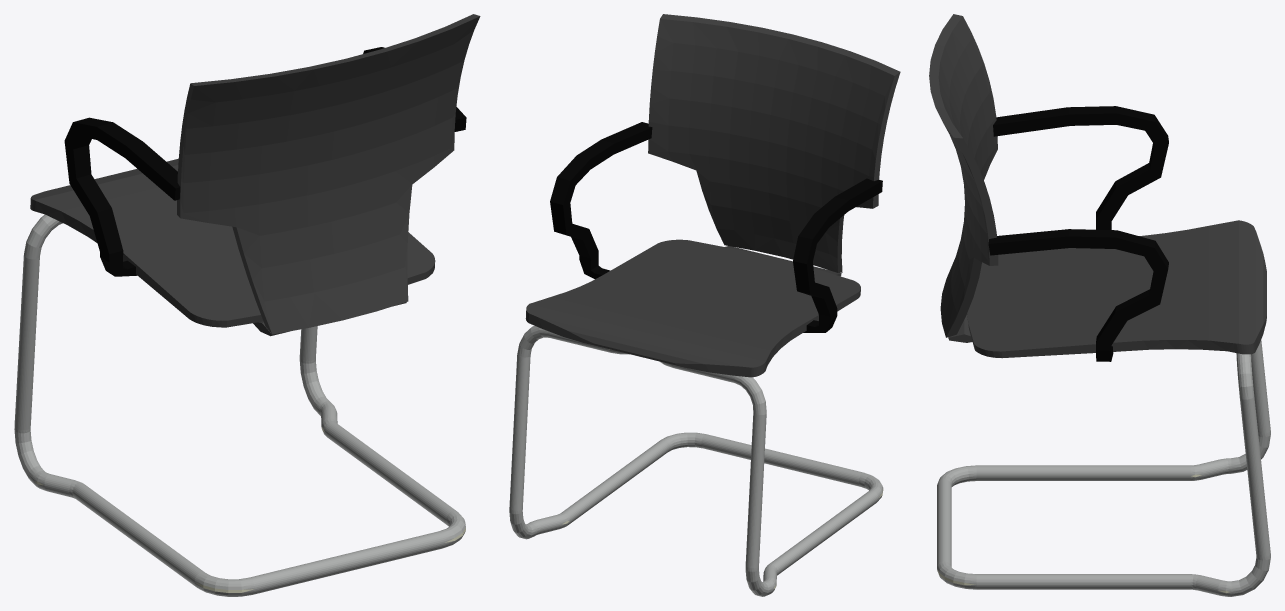
The picture shows the model from 3 angles, left to right: view 1: azimuth 30°, elevation 25°; view 2: azimuth 150°, elevation 25°; view 3: azimuth 270°, elevation 25°; orthographic projection. The views are drawn at different scales.
Parts seen in each view (by area): view 1: mesh3_mesh3-geometry, mesh1_mesh1-geometry, mesh2_mesh2-geometry, mesh6_mesh6-geometry; view 2: mesh3_mesh3-geometry, mesh2_mesh2-geometry, mesh1_mesh1-geometry, mesh5_mesh5-geometry, mesh6_mesh6-geometry; view 3: mesh2_mesh2-geometry, mesh1_mesh1-geometry, mesh3_mesh3-geometry, mesh5_mesh5-geometry, mesh6_mesh6-geometry.
Boxes of the visible parts, x1=… form: mesh3_mesh3-geometry: x1=177, y1=14, x2=480, y2=334; mesh1_mesh1-geometry: x1=14, y1=214, x2=465, y2=596; mesh2_mesh2-geometry: x1=30, y1=158, x2=435, y2=327; mesh6_mesh6-geometry: x1=64, y1=117, x2=180, y2=276; mesh3_mesh3-geometry: x1=648, y1=14, x2=900, y2=272; mesh2_mesh2-geometry: x1=525, y1=239, x2=860, y2=377; mesh1_mesh1-geometry: x1=509, y1=325, x2=883, y2=596; mesh5_mesh5-geometry: x1=550, y1=122, x2=652, y2=278; mesh6_mesh6-geometry: x1=793, y1=178, x2=882, y2=332; mesh2_mesh2-geometry: x1=967, y1=220, x2=1266, y2=358; mesh1_mesh1-geometry: x1=937, y1=340, x2=1270, y2=596; mesh3_mesh3-geometry: x1=929, y1=14, x2=998, y2=337; mesh5_mesh5-geometry: x1=988, y1=229, x2=1168, y2=361; mesh6_mesh6-geometry: x1=993, y1=106, x2=1168, y2=229.
Size of the model in its own units: 0.4613 by 0.7347 by 0.4974.
4 materials, 1 textured.
